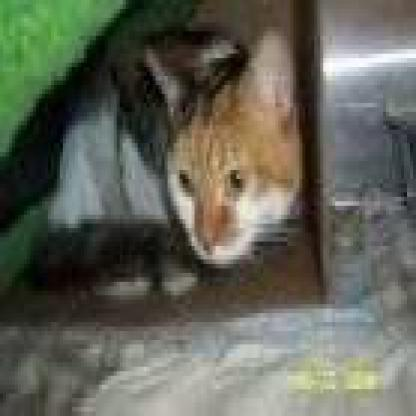cat: (75, 28, 334, 307)
